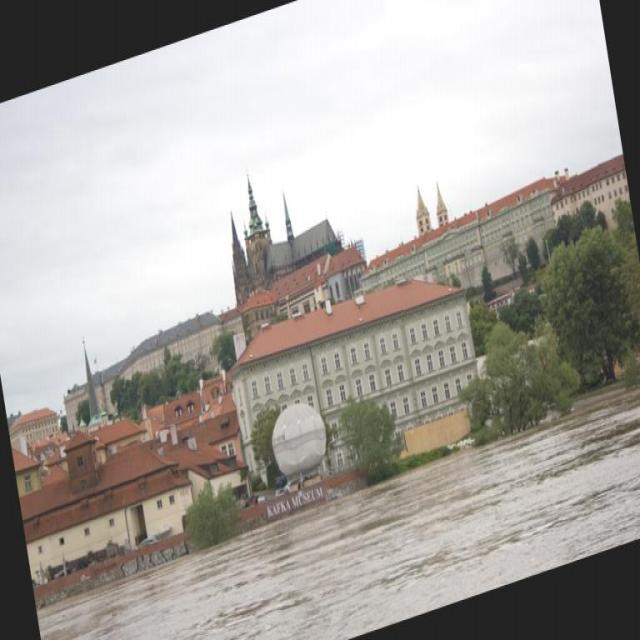flood: (33, 370, 639, 639)
